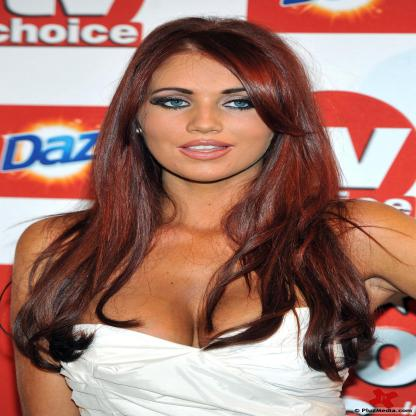long-hair: (82, 183, 345, 232)
